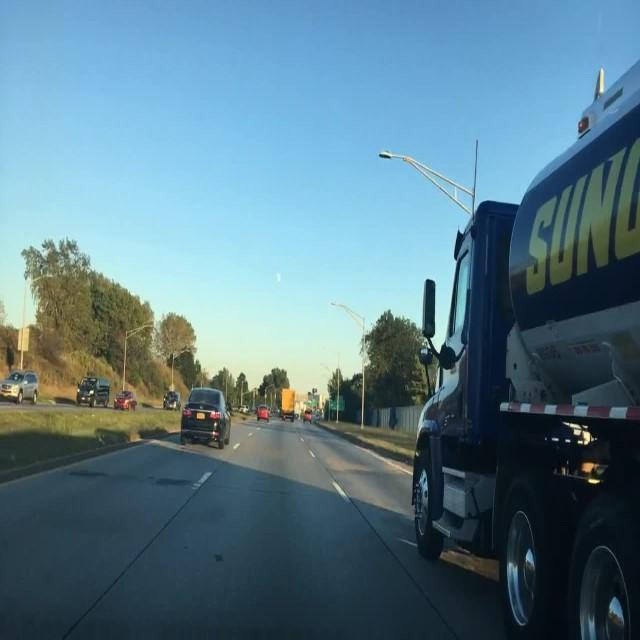normal: (182, 385, 232, 446), (1, 372, 40, 405)
